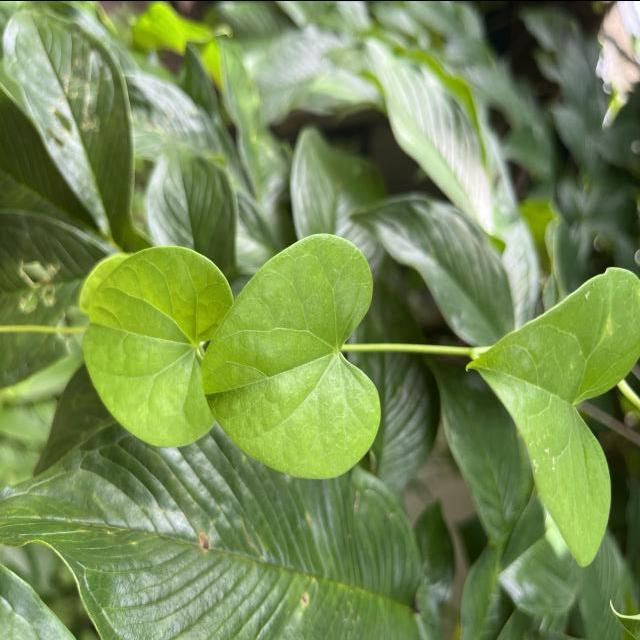Tinospora cordifolia: (460, 263, 640, 570), (198, 229, 386, 481), (79, 240, 240, 450)
